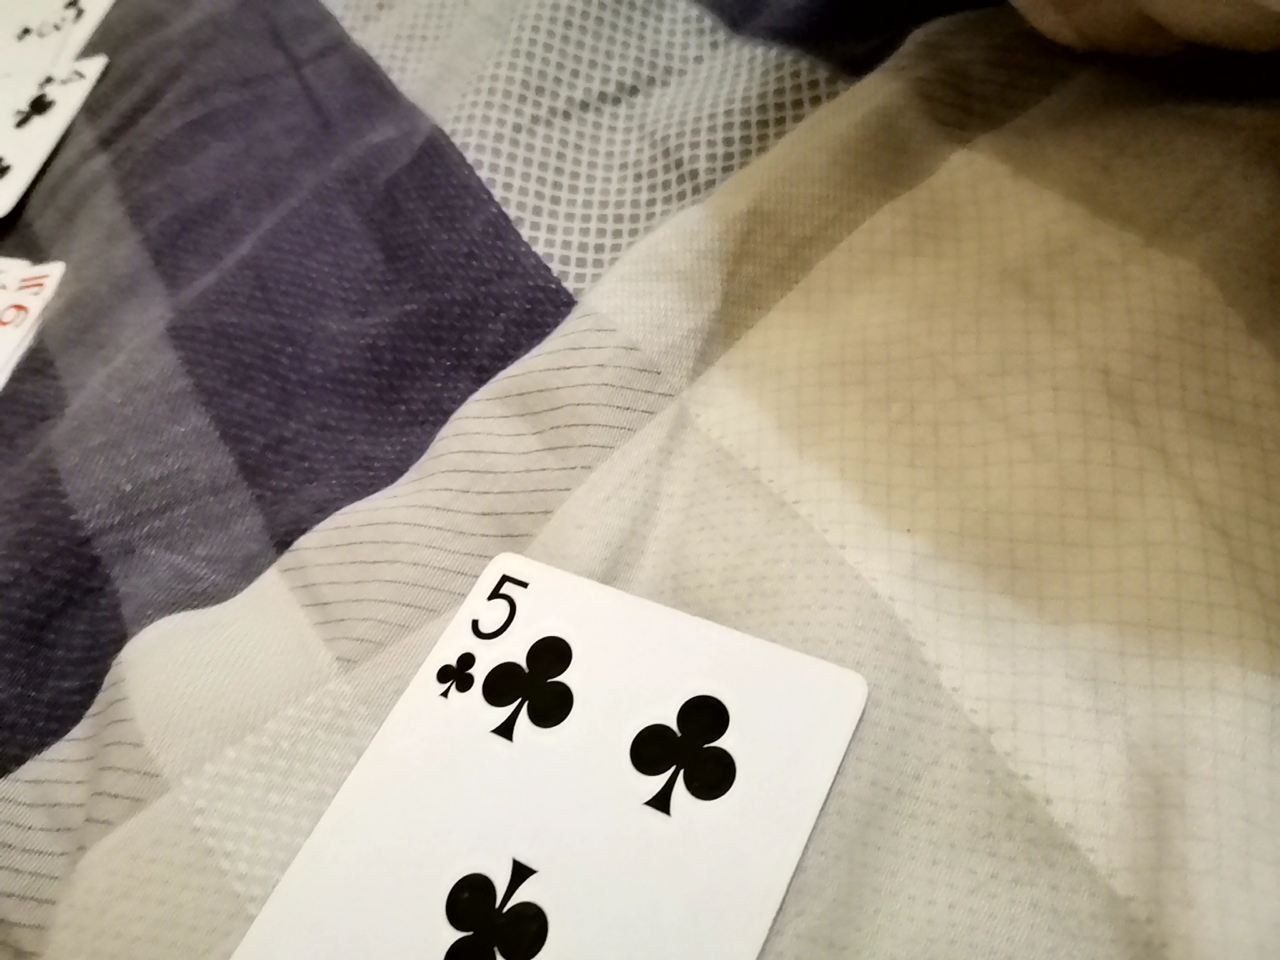mh 5: (155, 570, 860, 960)
